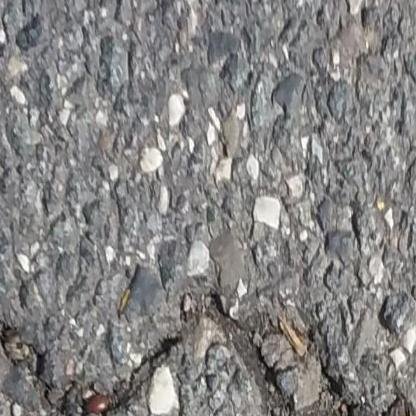Cracks: (0, 289, 364, 416)
